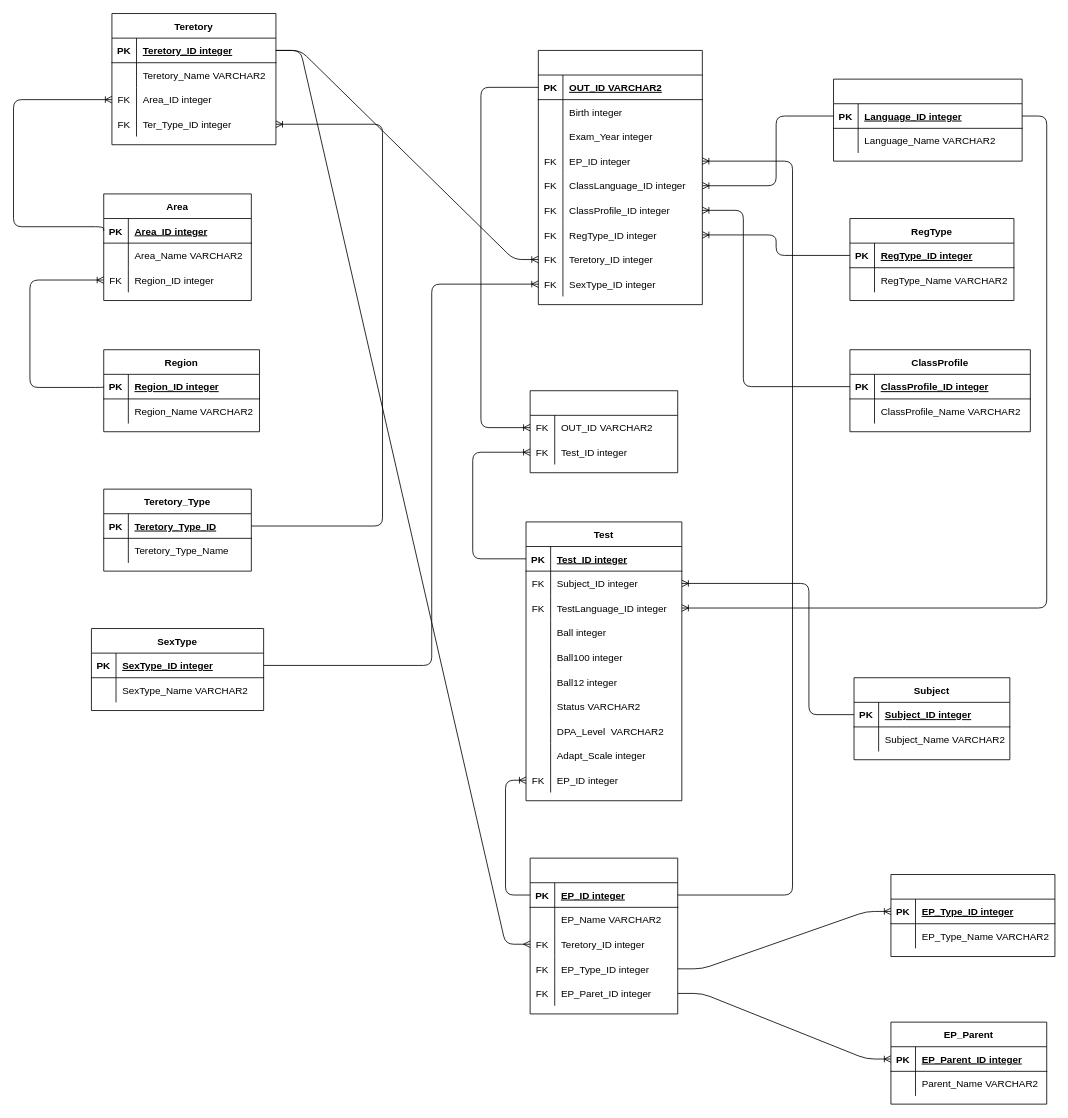
This 1068x1118 diagram has some shape labels left out. The box of each missing label's shape, as (x1, y1, x2, y2) in pixels:
Education_Place: (529, 857, 678, 1014)
Education_Place_Types: (890, 874, 1055, 957)
Student: (538, 50, 702, 305)
Student_Test: (529, 390, 678, 473)
TestLanguage: (833, 78, 1022, 161)
